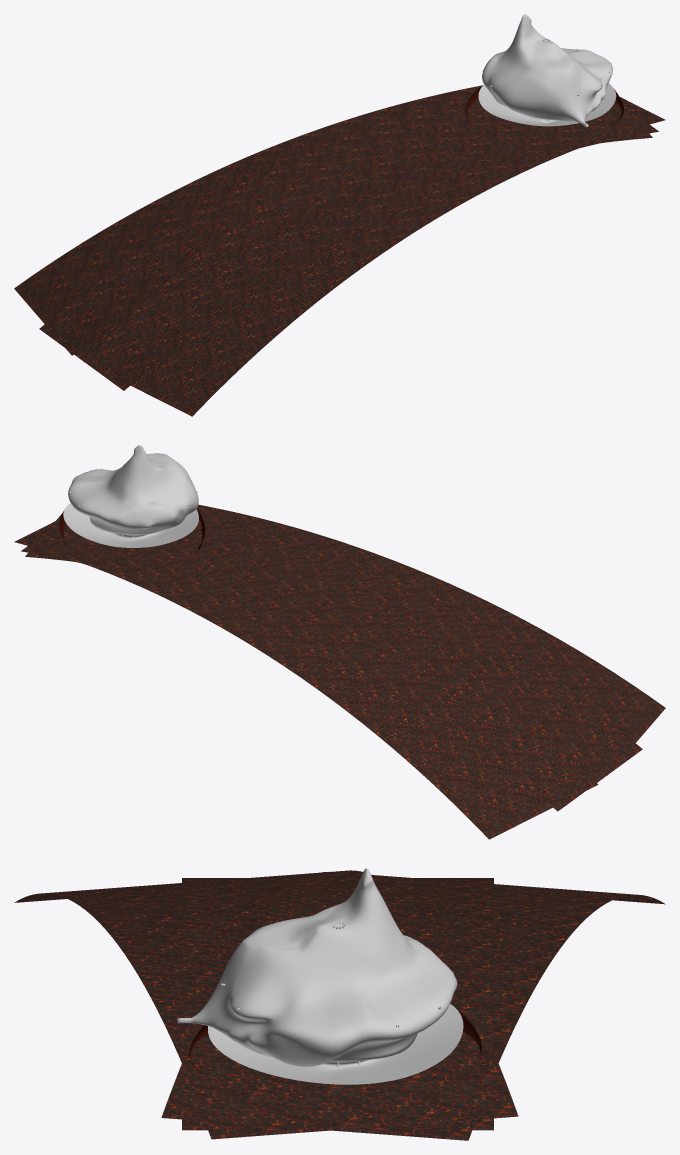
Rendered from Geothermal Steam Factory_no_sparks.obj.
The picture shows the model from 3 angles, top to bottom: view 1: azimuth 30°, elevation 25°; view 2: azimuth 150°, elevation 25°; view 3: azimuth 270°, elevation 25°; orthographic projection. The views are drawn at different scales.
Parts seen in each view (by area): view 1: Laca_Details_1.001_Cylinder.002, Laca_Details_1_Cylinder.005, Laca_Details_1.002_Cylinder.004, Rock_Cube.002; view 2: Laca_Details_1.001_Cylinder.002, Laca_Details_1_Cylinder.005, Laca_Details_1.002_Cylinder.004, Rock_Cube.002; view 3: Laca_Details_1.001_Cylinder.002, Rock_Cube.002, Laca_Details_1_Cylinder.005, Laca_Details_1.002_Cylinder.004, Lava_Ground_Cube.001.
Boxes of the visible parts, box(x1,y1,x2,y2) form: Laca_Details_1.001_Cylinder.002: box(83, 91, 665, 416); Laca_Details_1_Cylinder.005: box(14, 85, 652, 355); Laca_Details_1.002_Cylinder.004: box(39, 98, 658, 390); Rock_Cube.002: box(478, 14, 616, 127); Laca_Details_1.001_Cylinder.002: box(25, 504, 665, 775); Laca_Details_1_Cylinder.005: box(14, 518, 598, 839); Laca_Details_1.002_Cylinder.004: box(21, 546, 642, 811); Rock_Cube.002: box(63, 445, 198, 547); Laca_Details_1.001_Cylinder.002: box(14, 870, 518, 1139); Rock_Cube.002: box(177, 868, 463, 1084); Laca_Details_1_Cylinder.005: box(161, 871, 665, 1140); Laca_Details_1.002_Cylinder.004: box(182, 878, 493, 1130); Lava_Ground_Cube.001: box(189, 1007, 481, 1117).
Size of the model in its own units: 544 by 216 by 302.
